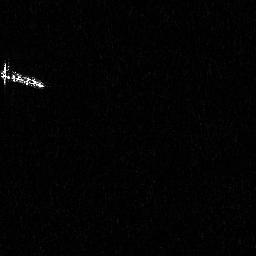ship: (1, 59, 46, 89)
